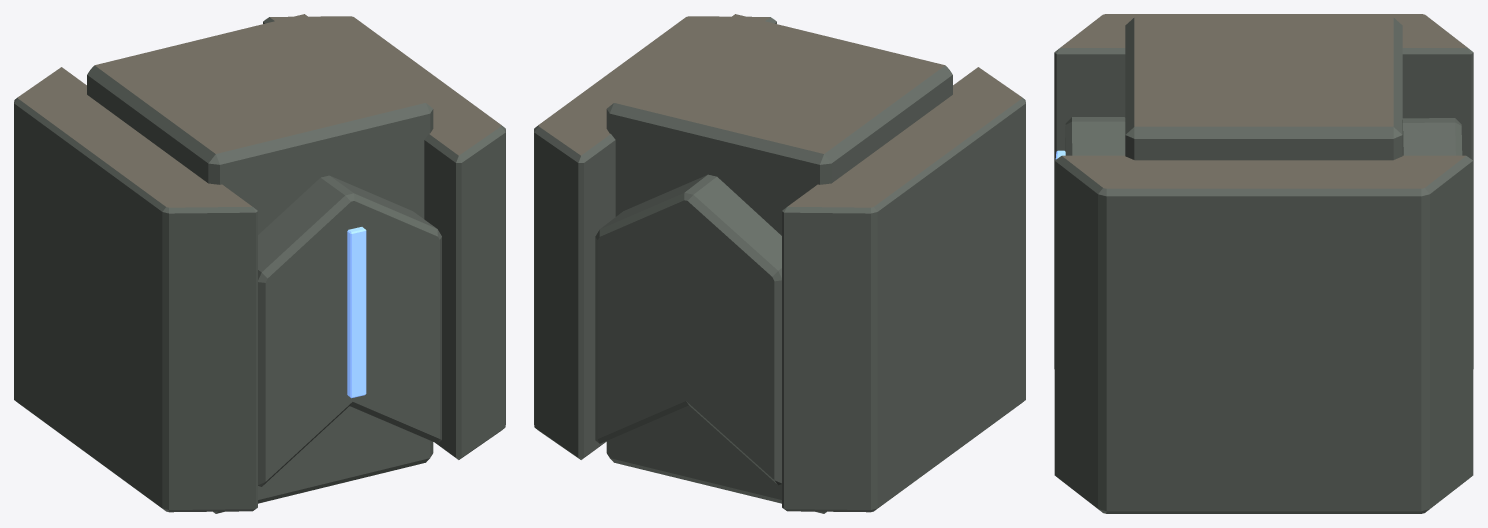
Rendered from R4X_HullBooster_LOD1.fbx.
3 views of the same model, side by side, from view 1: azimuth 30°, elevation 25°; view 2: azimuth 150°, elevation 25°; view 3: azimuth 270°, elevation 25° (orthographic). The views are drawn at different scales.
Visible parts, largest first — view 1: R4X_HullBooster_LOD1; view 2: R4X_HullBooster_LOD1; view 3: R4X_HullBooster_LOD1.
Part boxes in pixels (x1,y1,x2,y2): R4X_HullBooster_LOD1: [14, 14, 505, 513]; R4X_HullBooster_LOD1: [534, 14, 1025, 513]; R4X_HullBooster_LOD1: [1054, 14, 1473, 513].
Bounding box in the file's own units: 0.52 × 0.52 × 0.5144.
